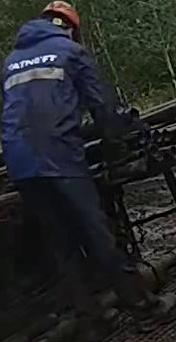helmet: (39, 0, 80, 25)
vest: (0, 21, 93, 181)
